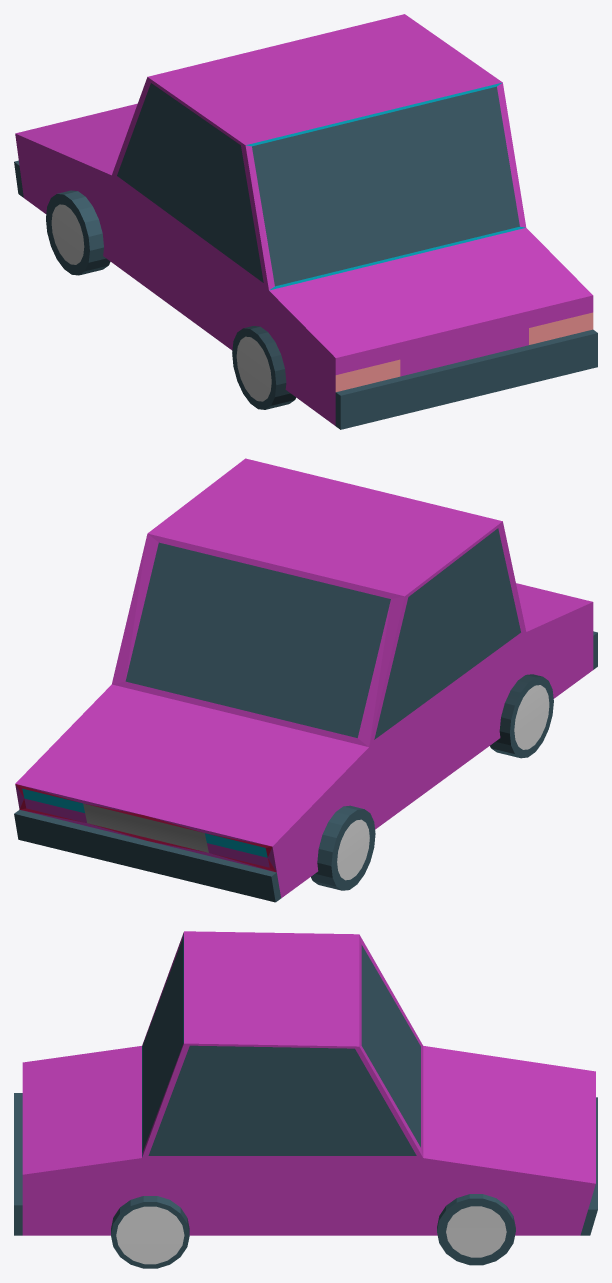
The model's file is Car1Purple1x1.fbx.
3 renders of one model, top to bottom at view 1: azimuth 30°, elevation 25°; view 2: azimuth 150°, elevation 25°; view 3: azimuth 270°, elevation 25°, orthographic. The views are drawn at different scales.
Visible parts, largest first — view 1: Car_04_4; view 2: Car_04_4; view 3: Car_04_4.
Boxes of the visible parts, left/top/right/bottom form: Car_04_4: left=14, top=14, right=597, bottom=429; Car_04_4: left=14, top=458, right=597, bottom=902; Car_04_4: left=14, top=931, right=597, bottom=1268.
Size of the model in its own units: 0.4944 by 0.4046 by 0.9785.
1 material, 1 textured.
